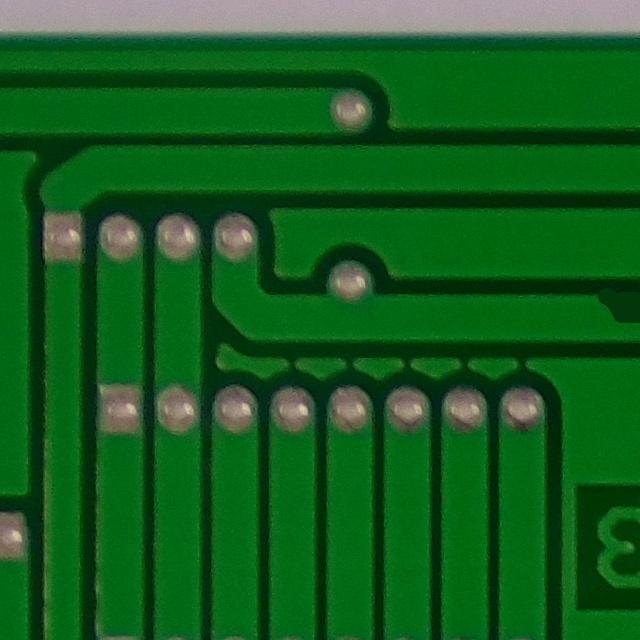mouse_bite: (579, 271, 640, 335)
